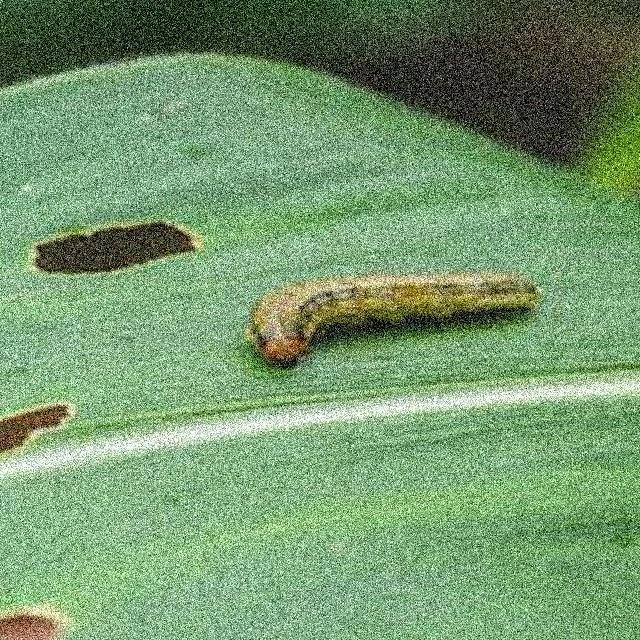gusano_cogollero: (242, 266, 540, 370)
